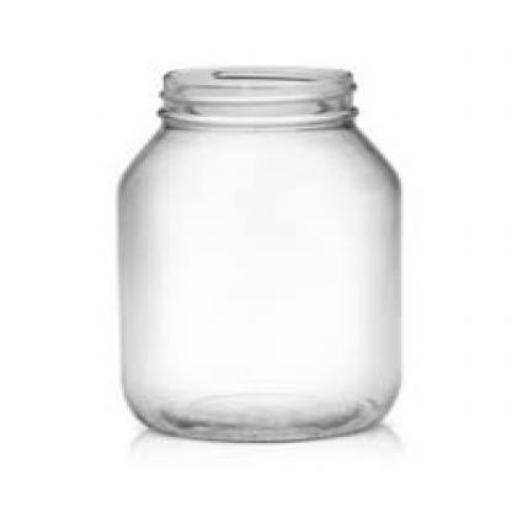glass: (113, 67, 399, 441)
